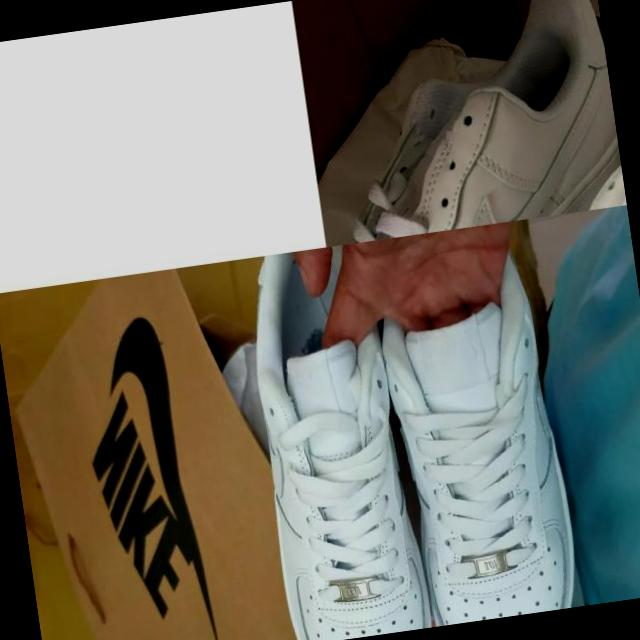nike_fake_airforce: (370, 238, 600, 628), (241, 239, 435, 640), (320, 0, 626, 241)
